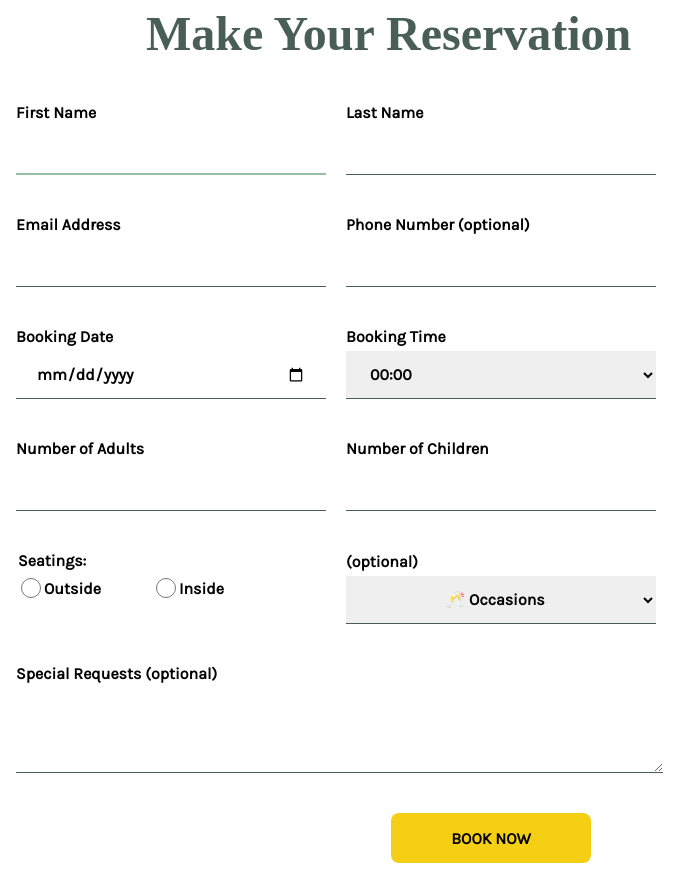
Scenario: Booking Form › should show an error message for incorrect phone number format
Type "John" into the field labelled "Phone Number (optional)" at (501,263), box [346,239,656,287]
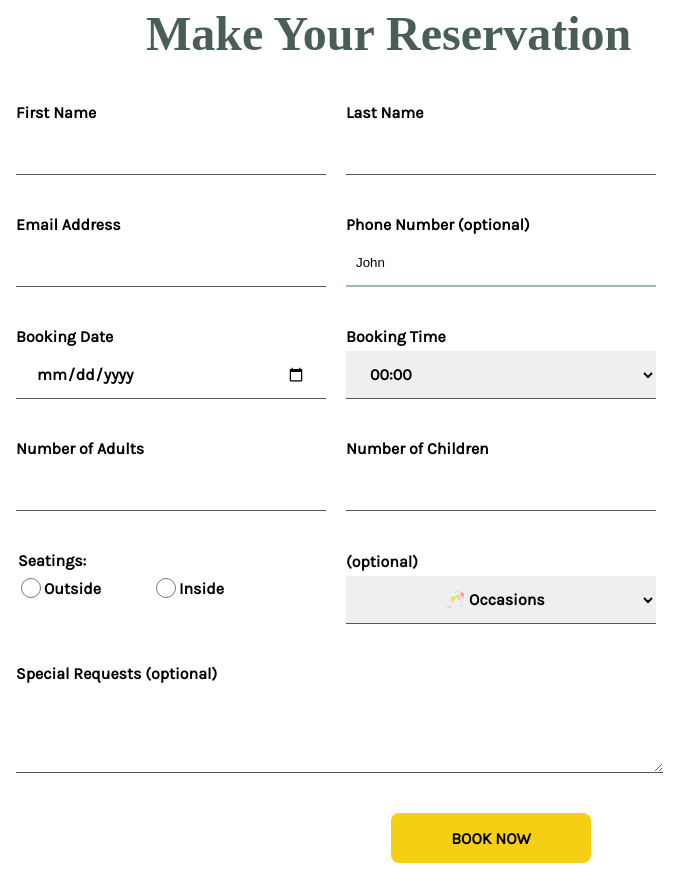
Click the button "BOOK NOW" at (491,838), box [391,813,591,863]
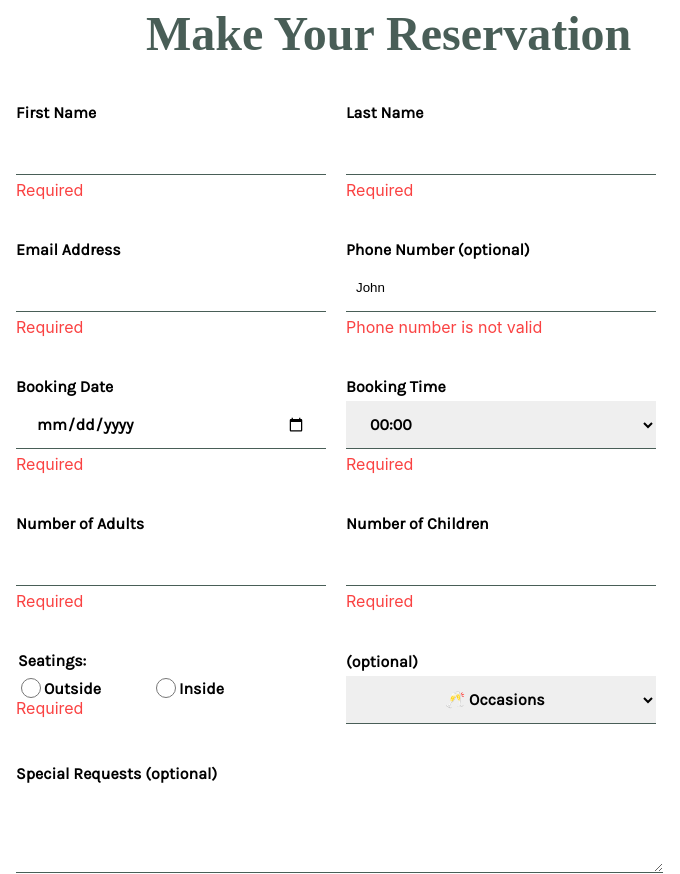
Expected: the text "Phone number is not valid" is shown, [346,317,542,337]
